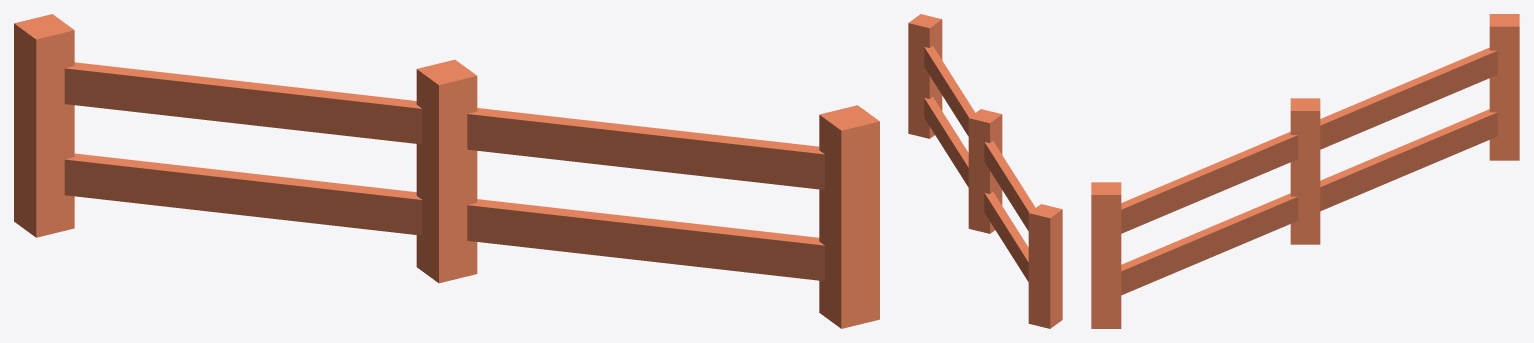
File: fence_simpleDiagonalCenter.obj
3 renders of one model, left to right at view 1: azimuth 30°, elevation 25°; view 2: azimuth 150°, elevation 25°; view 3: azimuth 270°, elevation 25°, orthographic. The views are drawn at different scales.
Visible parts, largest first — view 1: fence_simpleDiagonalCenter; view 2: fence_simpleDiagonalCenter; view 3: fence_simpleDiagonalCenter.
Boxes of the visible parts, <box> form: fence_simpleDiagonalCenter: <box>14,14,879,328</box>; fence_simpleDiagonalCenter: <box>908,14,1062,328</box>; fence_simpleDiagonalCenter: <box>1091,14,1519,328</box>.
Size of the model in its own units: 1 by 0.345 by 1.
